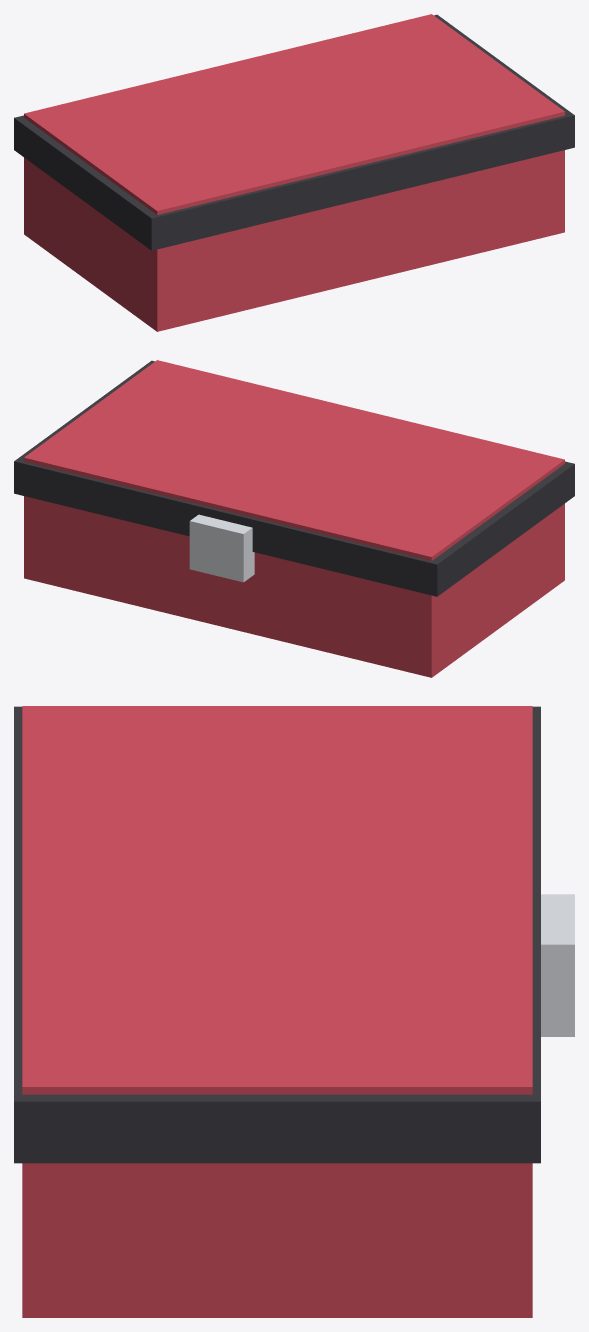
Rendered from punk_cintura.glb.
3 renders of one model, top to bottom at view 1: azimuth 30°, elevation 25°; view 2: azimuth 150°, elevation 25°; view 3: azimuth 270°, elevation 25°, orthographic. The views are drawn at different scales.
Parts seen in each view (by area): view 1: punk_cintura; view 2: punk_cintura; view 3: punk_cintura.
Boxes of the visible parts, x1,y1,x2,y2 form: punk_cintura: [14, 14, 574, 331]; punk_cintura: [14, 360, 574, 677]; punk_cintura: [14, 706, 574, 1317].
Bounding box in the file's own units: 0.55 × 0.15 × 0.33.
